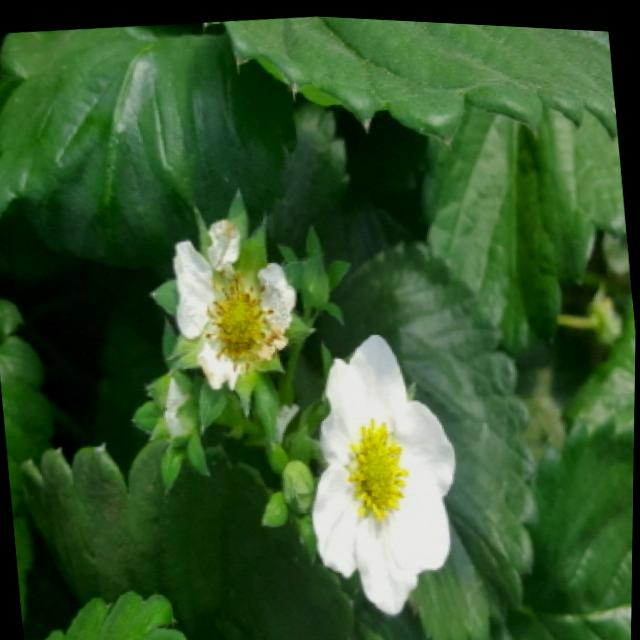Blossom Blight: (196, 270, 286, 372)
